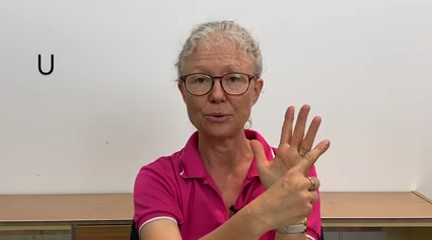U: (241, 98, 337, 240)
